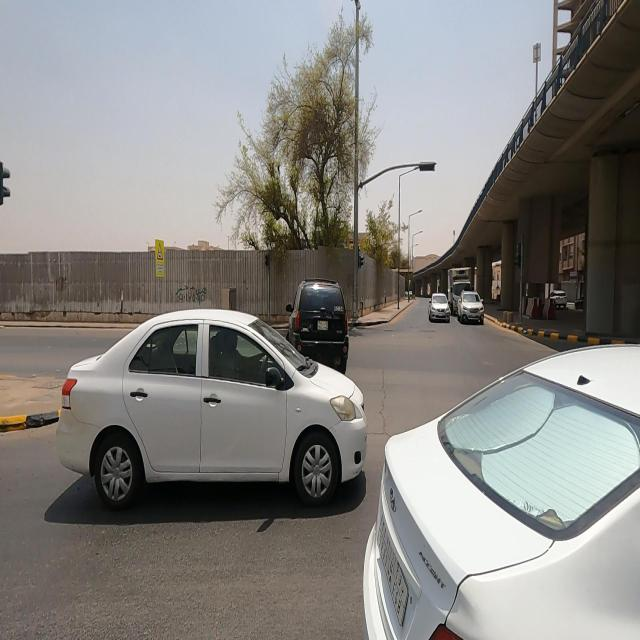Graffiti: (175, 285, 209, 305)
